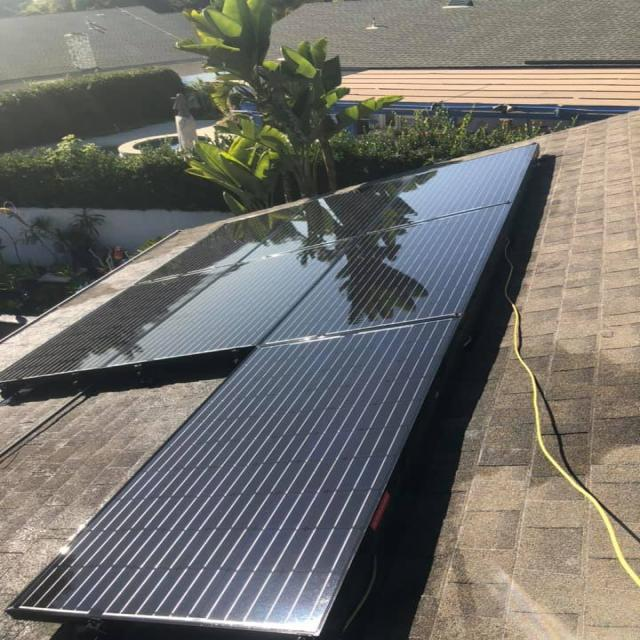clean-solar-panel: (2, 146, 538, 640)
